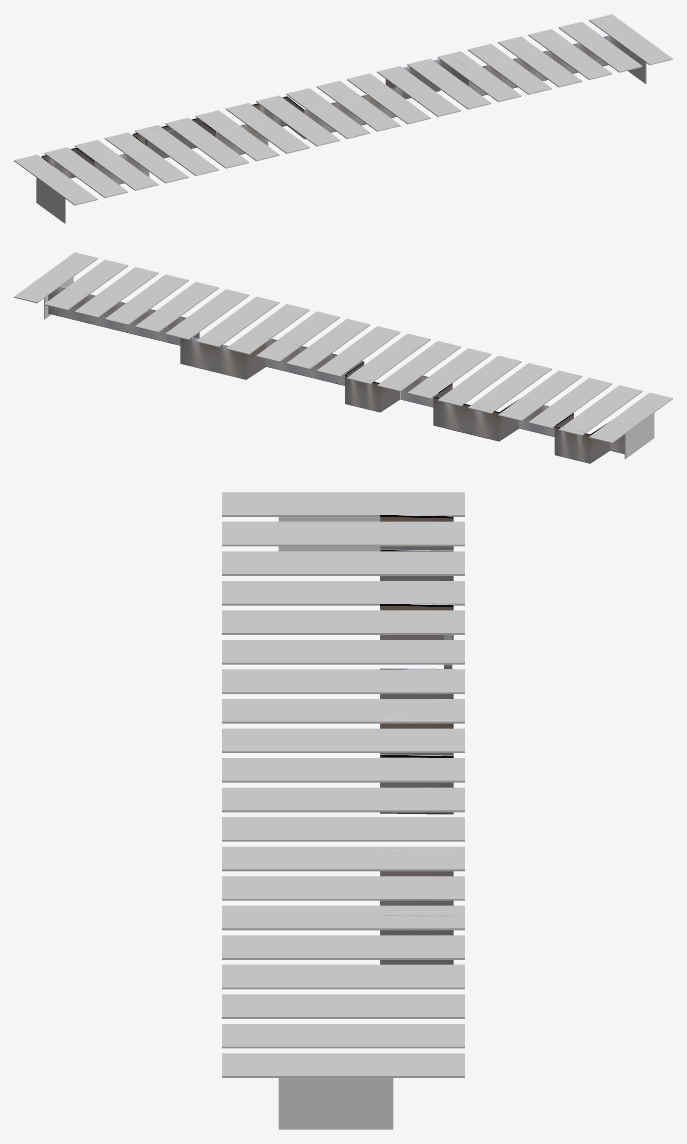
The model's file is Passage.glb.
The picture shows the model from 3 angles, top to bottom: view 1: azimuth 30°, elevation 25°; view 2: azimuth 150°, elevation 25°; view 3: azimuth 270°, elevation 25°; orthographic projection. The views are drawn at different scales.
Visible parts, largest first — view 1: Cube.027, Plane.003, Plane.004, Plane.020; view 2: Cube.027, Plane.003, Plane.004; view 3: Cube.027, Plane.003, Plane.020, Plane.004.
Part boxes in pixels (x1,y1,x2,y2): Cube.027: (14,14,672,205); Plane.003: (41,32,622,184); Plane.004: (36,178,65,223); Plane.020: (620,44,646,83); Cube.027: (14,252,672,443); Plane.003: (45,283,627,463); Plane.004: (624,413,654,458); Cube.027: (222,492,464,1077); Plane.003: (380,514,453,964); Plane.020: (278,1078,393,1129); Plane.004: (278,517,379,551).
Bounding box in the file's own units: 110 × 5.82 × 19.43.
Materials: 3 (1 with a texture image).
